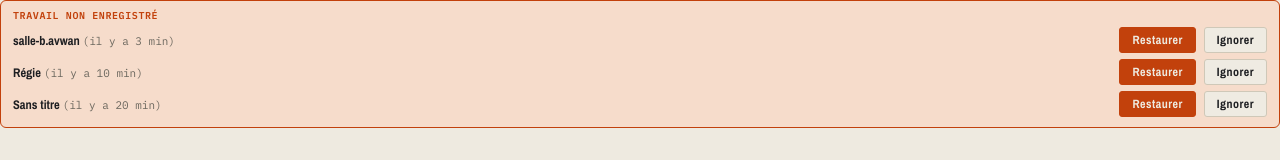
Test: RecoveryBanner › Ignorer efface la copie et retire la ligne
Click the button with aria-label "Ignorer Régie" at coordinates (1235, 72), box x1=1204 y1=59 x2=1267 y2=85
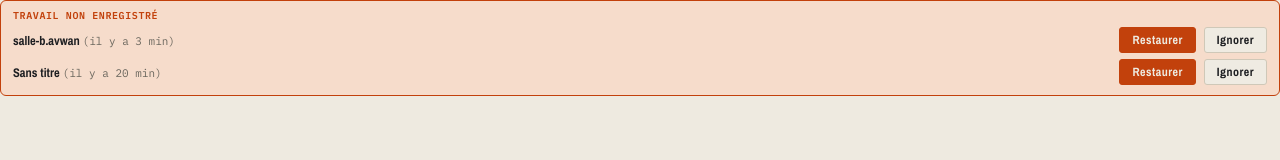
Expected: the list "Ignorer Régie" is gone
